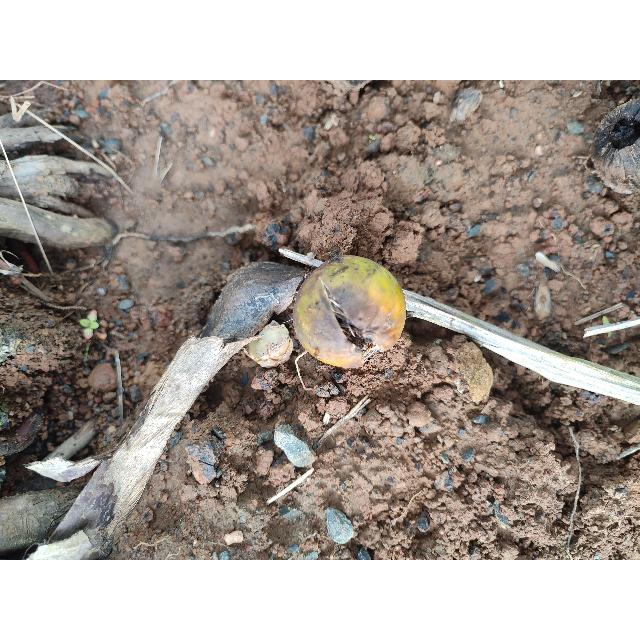damaged: (266, 257, 408, 371)
